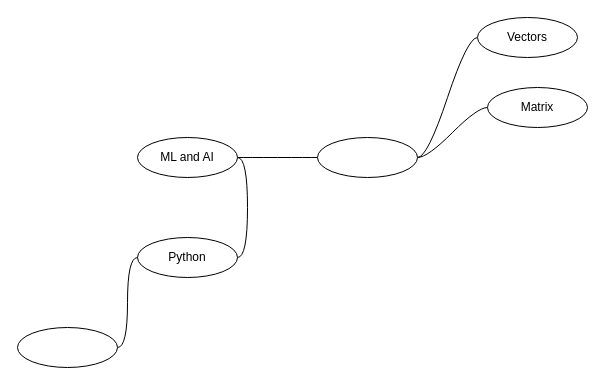
The diagram is 605 pixels wide and 385 high, and some of its shapes have lost their labels. The shapes that lost their labels are listed below. From the top down, each one's centre as x and y in pixels, then its label:
pixel 367 157: MATHS
pixel 67 347: Numpy
